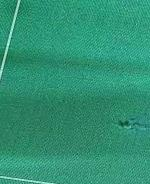knot: (117, 114, 141, 136)
